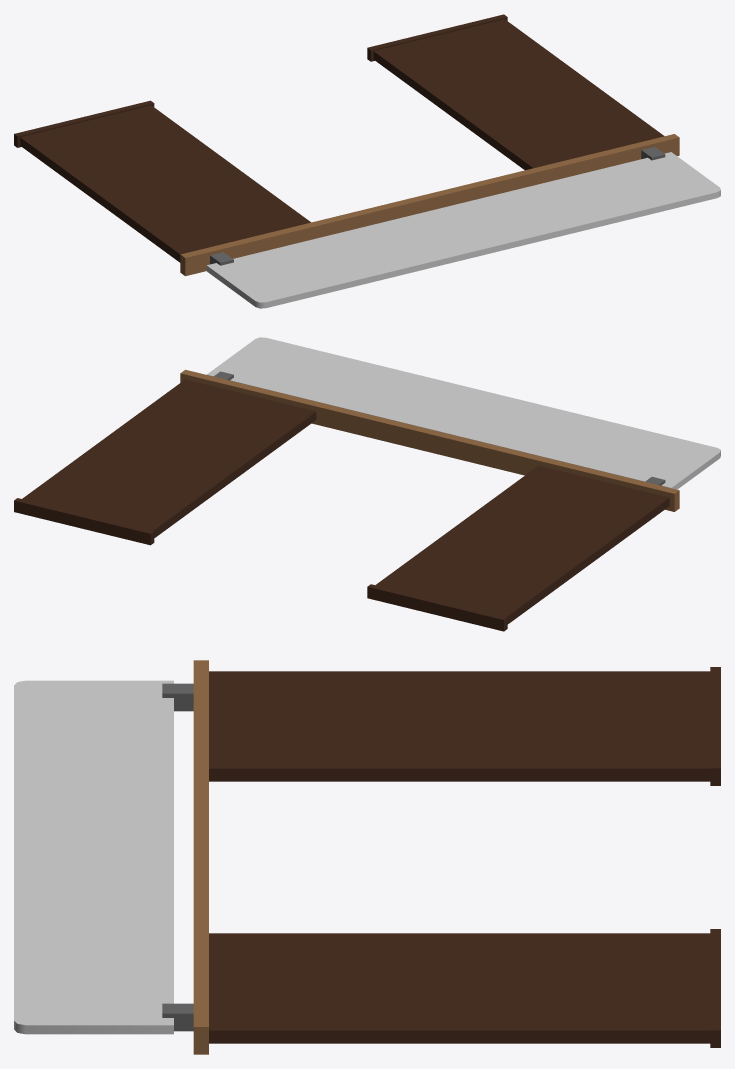
File: Desk_Separator.obj
3 views of the same model, one above another, from view 1: azimuth 30°, elevation 25°; view 2: azimuth 150°, elevation 25°; view 3: azimuth 270°, elevation 25° (orthographic). The views are drawn at different scales.
Visible parts, largest first — view 1: Desk_Separator; view 2: Desk_Separator; view 3: Desk_Separator.
Boxes of the visible parts, x1,y1,x2,y2 form: Desk_Separator: (14,14,720,308); Desk_Separator: (14,337,720,631); Desk_Separator: (14,660,720,1054).
Size of the model in its own units: 1.56 by 0.055 by 1.28.
